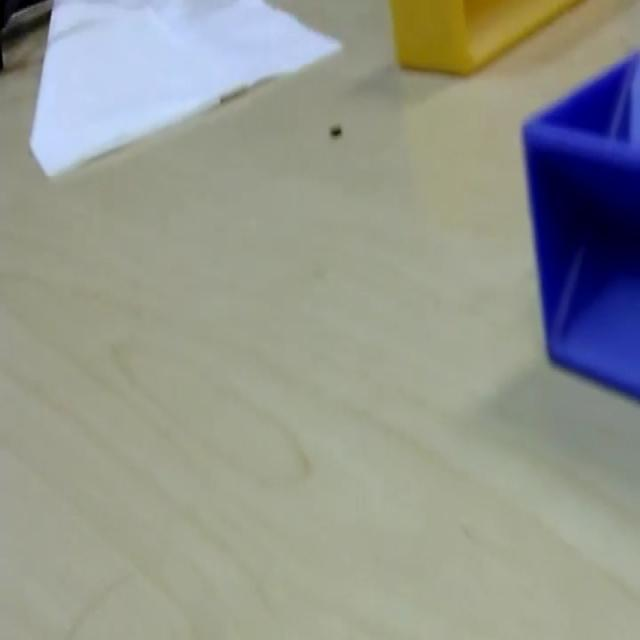blue_block: (519, 48, 639, 400)
yellow_block: (388, 0, 584, 76)
